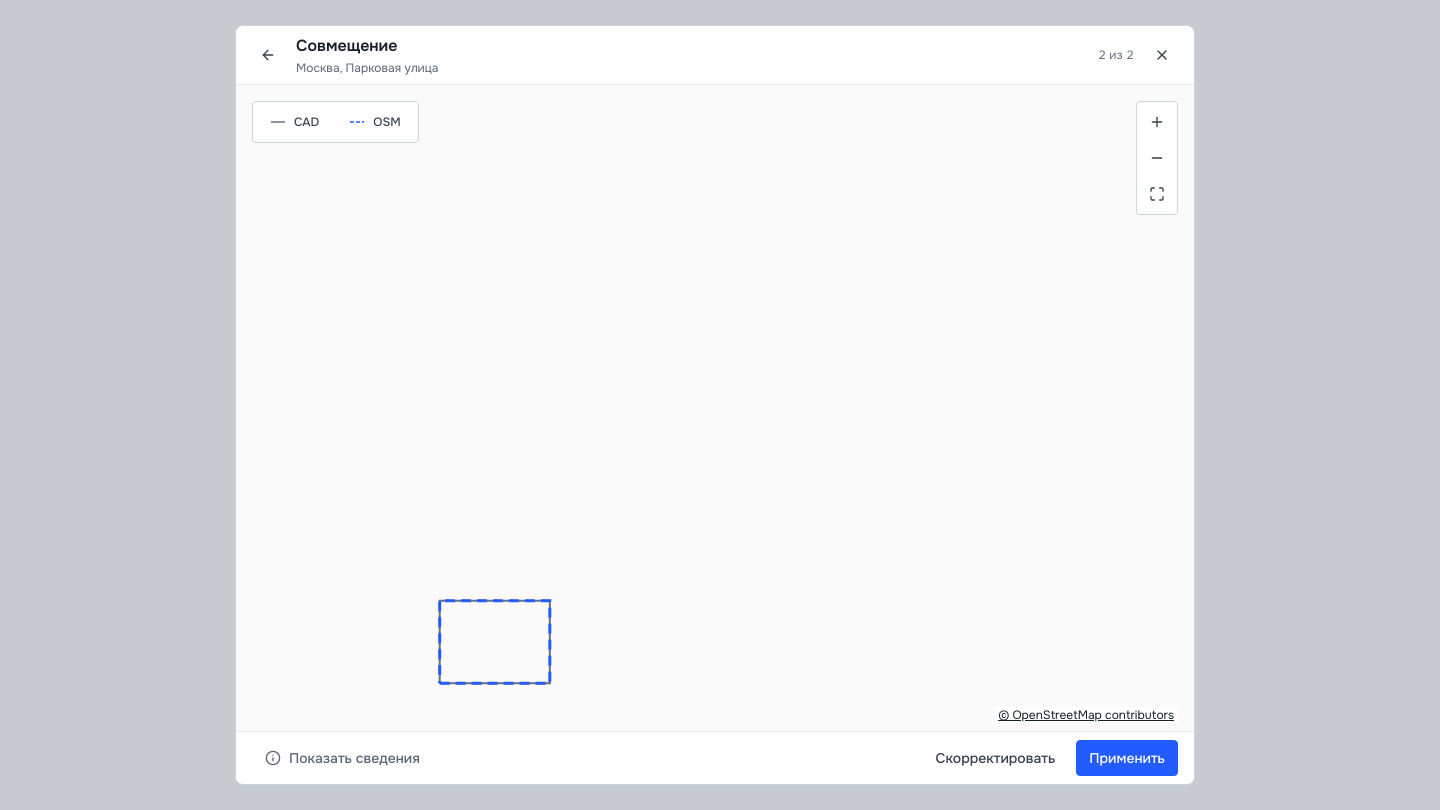
Scenario: keeps a failed application visible and does not announce or close it as saved
Click the button "Применить".
click(1127, 758)  # box [1076, 740, 1178, 776]
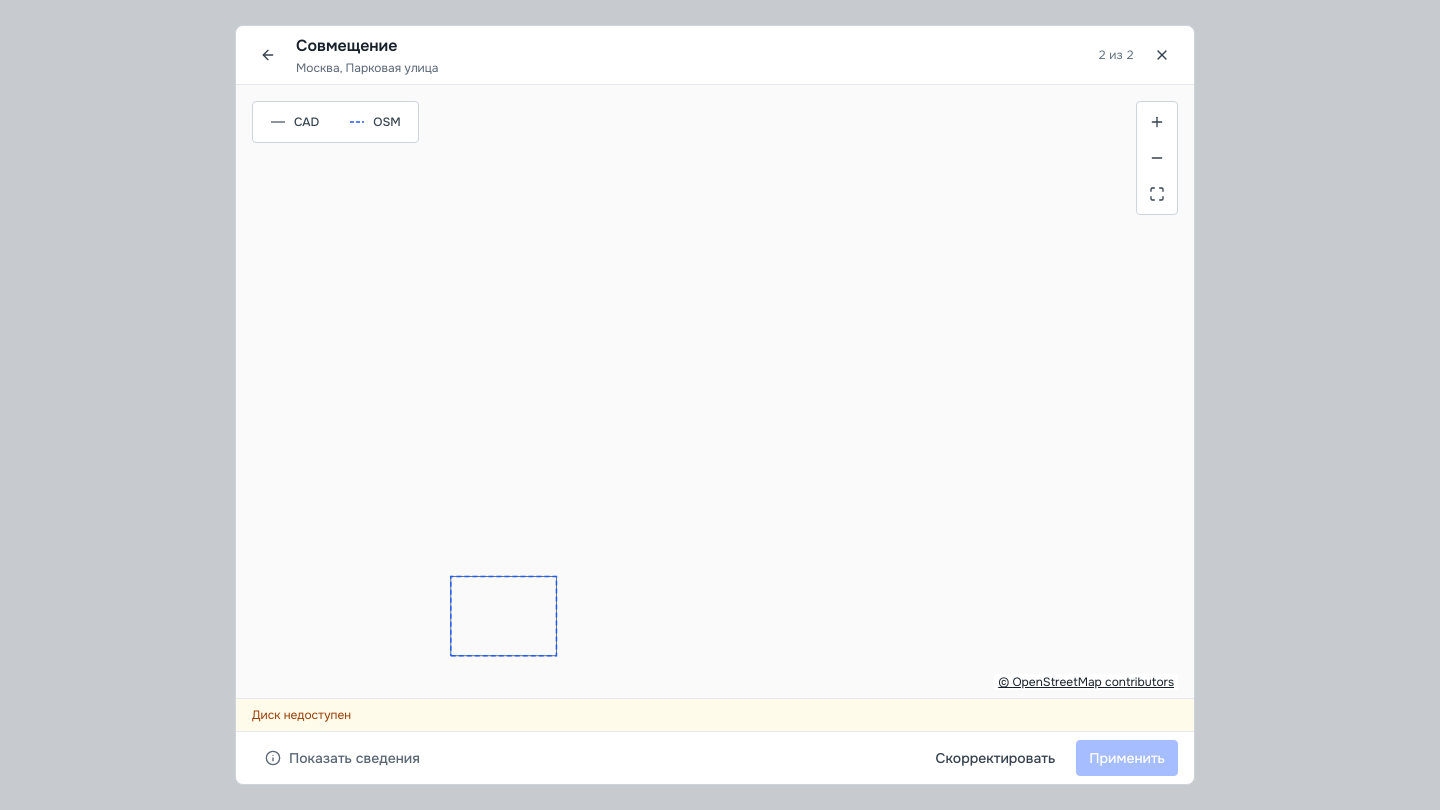
Result: the message reads "Диск недоступен" at [252, 707, 351, 723]
